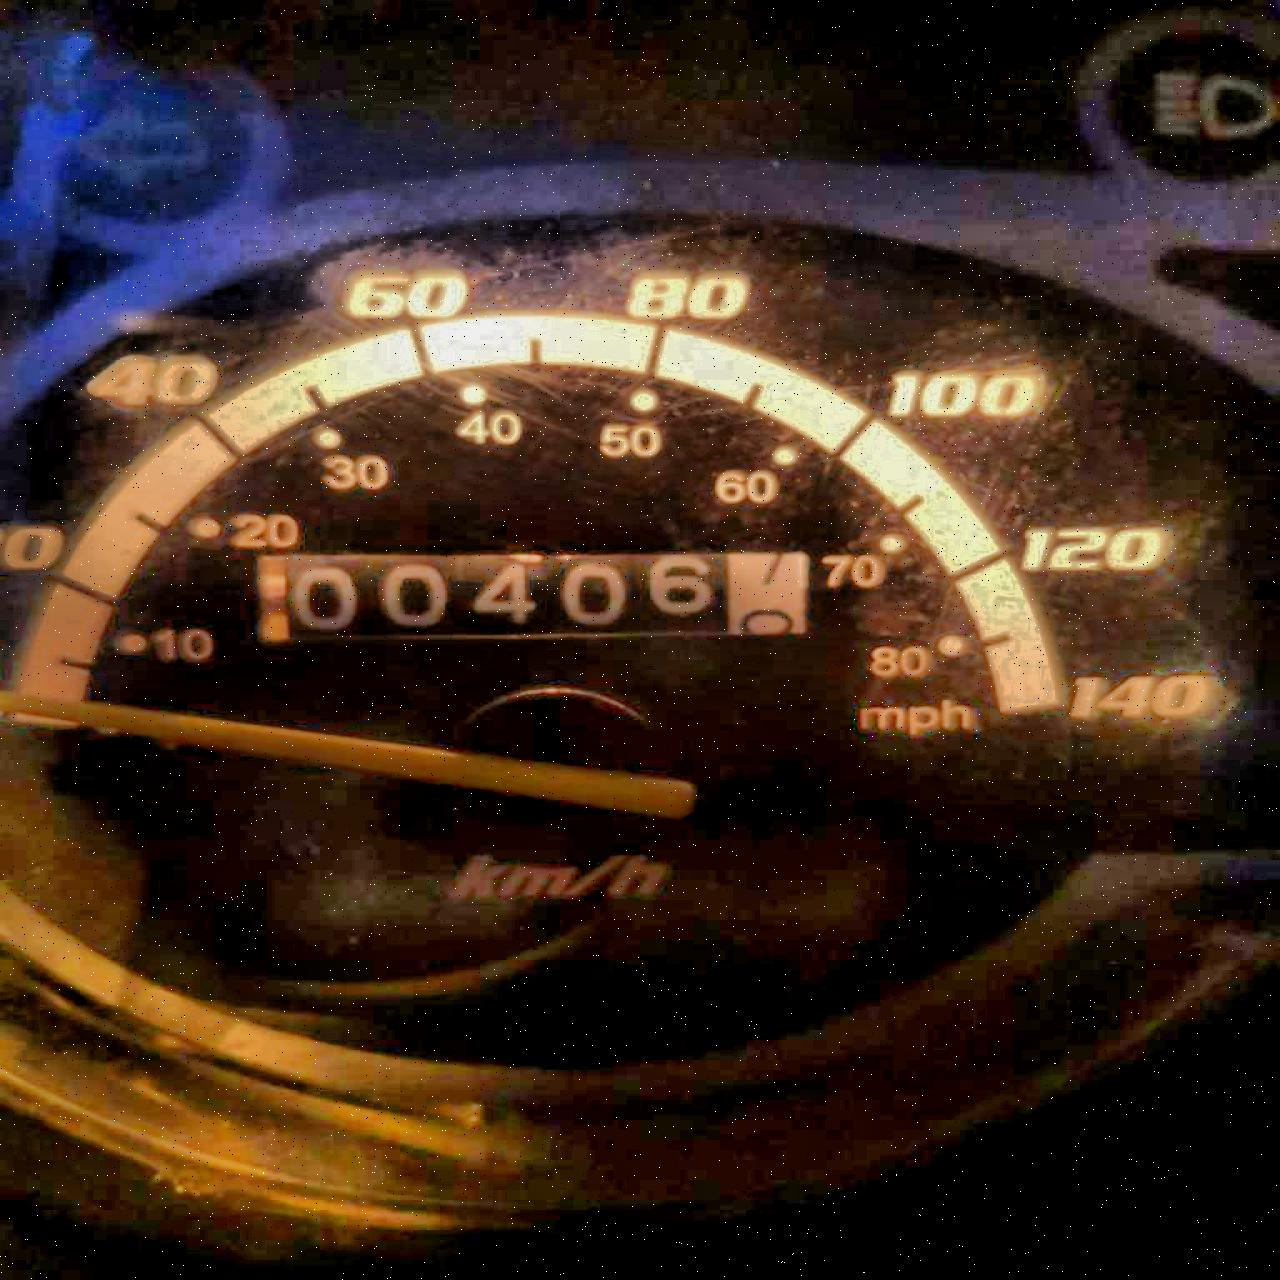0: (375, 561, 451, 629), (557, 557, 628, 628), (288, 563, 359, 632)
4: (465, 558, 537, 631)
6: (644, 550, 716, 617)
7: (742, 549, 785, 587)
8: (730, 605, 799, 636)
odometer: (244, 546, 813, 647)
